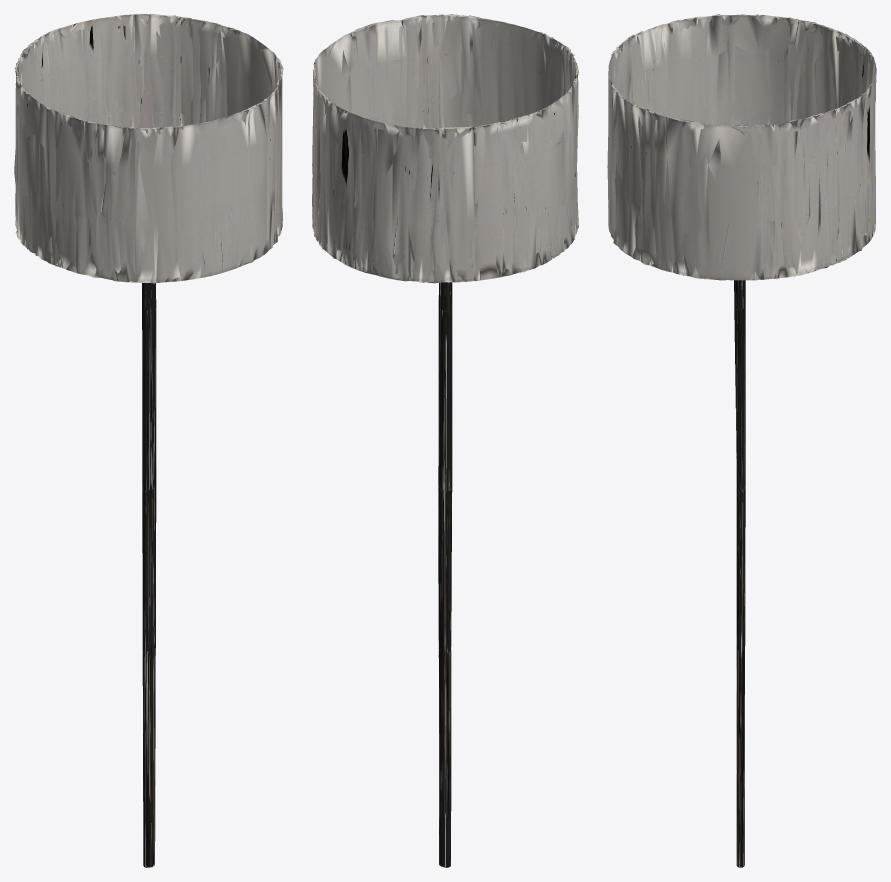
File: mobile.glb
3 renders of one model, left to right at view 1: azimuth 30°, elevation 25°; view 2: azimuth 150°, elevation 25°; view 3: azimuth 270°, elevation 25°, orthographic.
Visible parts, largest first — view 1: floorlamp; view 2: floorlamp; view 3: floorlamp.
Boxes of the visible parts, left/top/right/bottom form: floorlamp: left=14, top=14, right=283, bottom=867; floorlamp: left=312, top=14, right=578, bottom=867; floorlamp: left=607, top=14, right=876, bottom=867.
Size of the model in its own units: 0.487 by 1.6 by 0.4895.
1 material, 1 textured.
